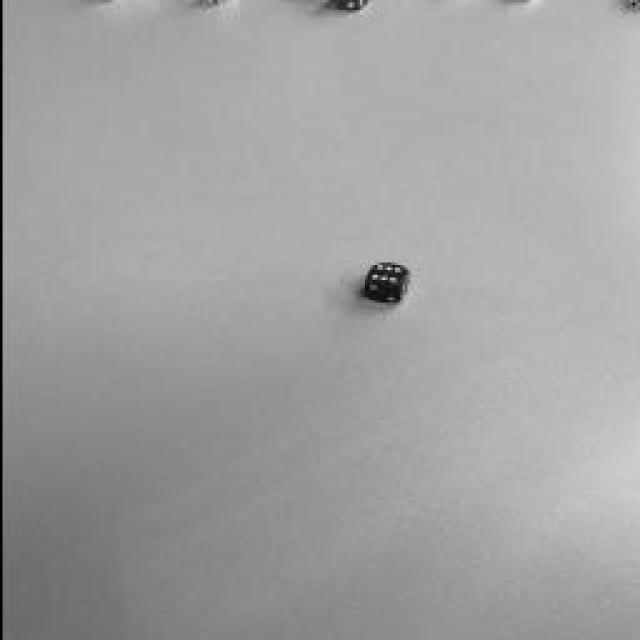dice_6: (366, 265, 406, 285)
